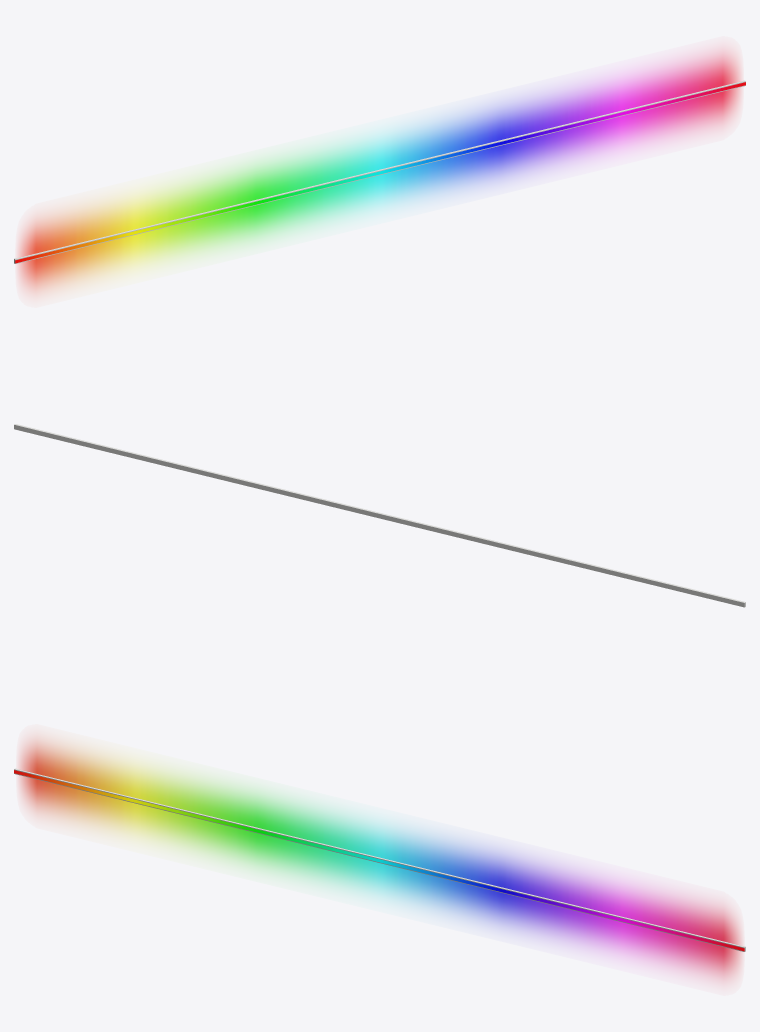
The model's file is obj-led-strip-rgb.glb.
The picture shows the model from 3 angles, top to bottom: view 1: azimuth 30°, elevation 25°; view 2: azimuth 150°, elevation 25°; view 3: azimuth 330°, elevation 25°; orthographic projection.
Parts seen in each view (by area): view 1: obj-led-strip-rgb; view 2: obj-led-strip-rgb; view 3: obj-led-strip-rgb.
Boxes of the visible parts, bbox=[...] form: obj-led-strip-rgb: bbox=[14, 51, 745, 292]; obj-led-strip-rgb: bbox=[14, 424, 745, 607]; obj-led-strip-rgb: bbox=[14, 739, 745, 980].
Bounding box in the file's own units: 2 × 0.3599 × 0.0061.
Materials: 3 (2 with a texture image).
